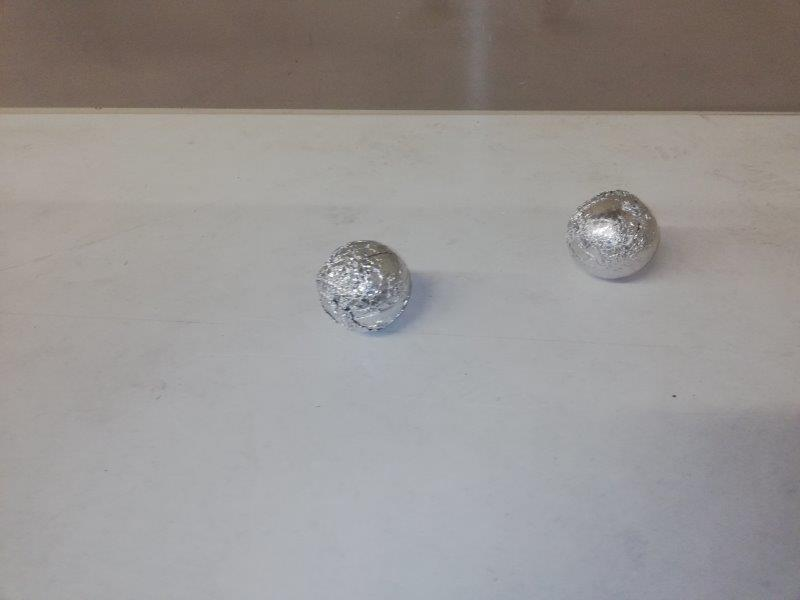bianca: (563, 189, 661, 281), (320, 237, 411, 333)
